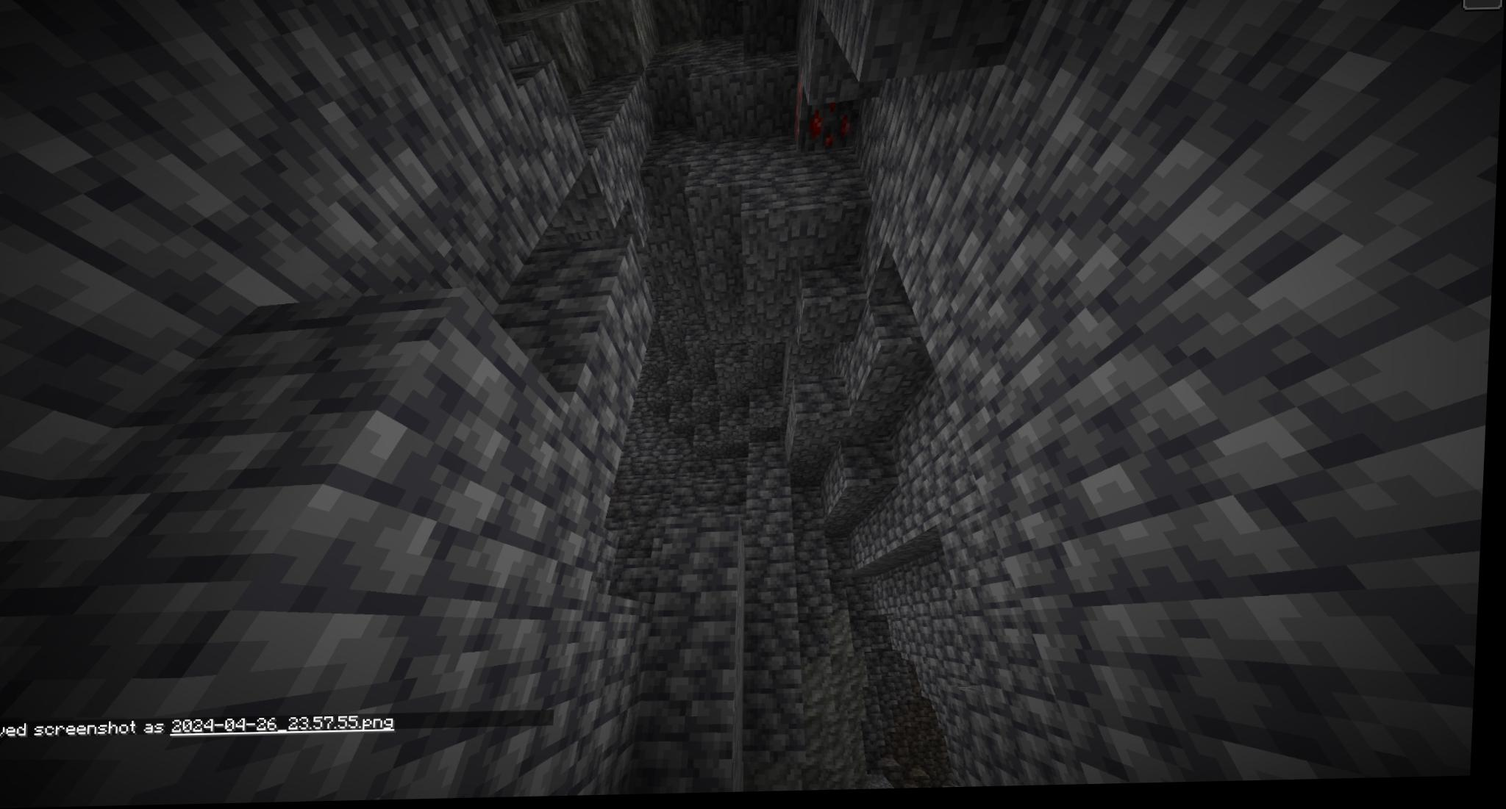redstone ore: (793, 92, 862, 157)
